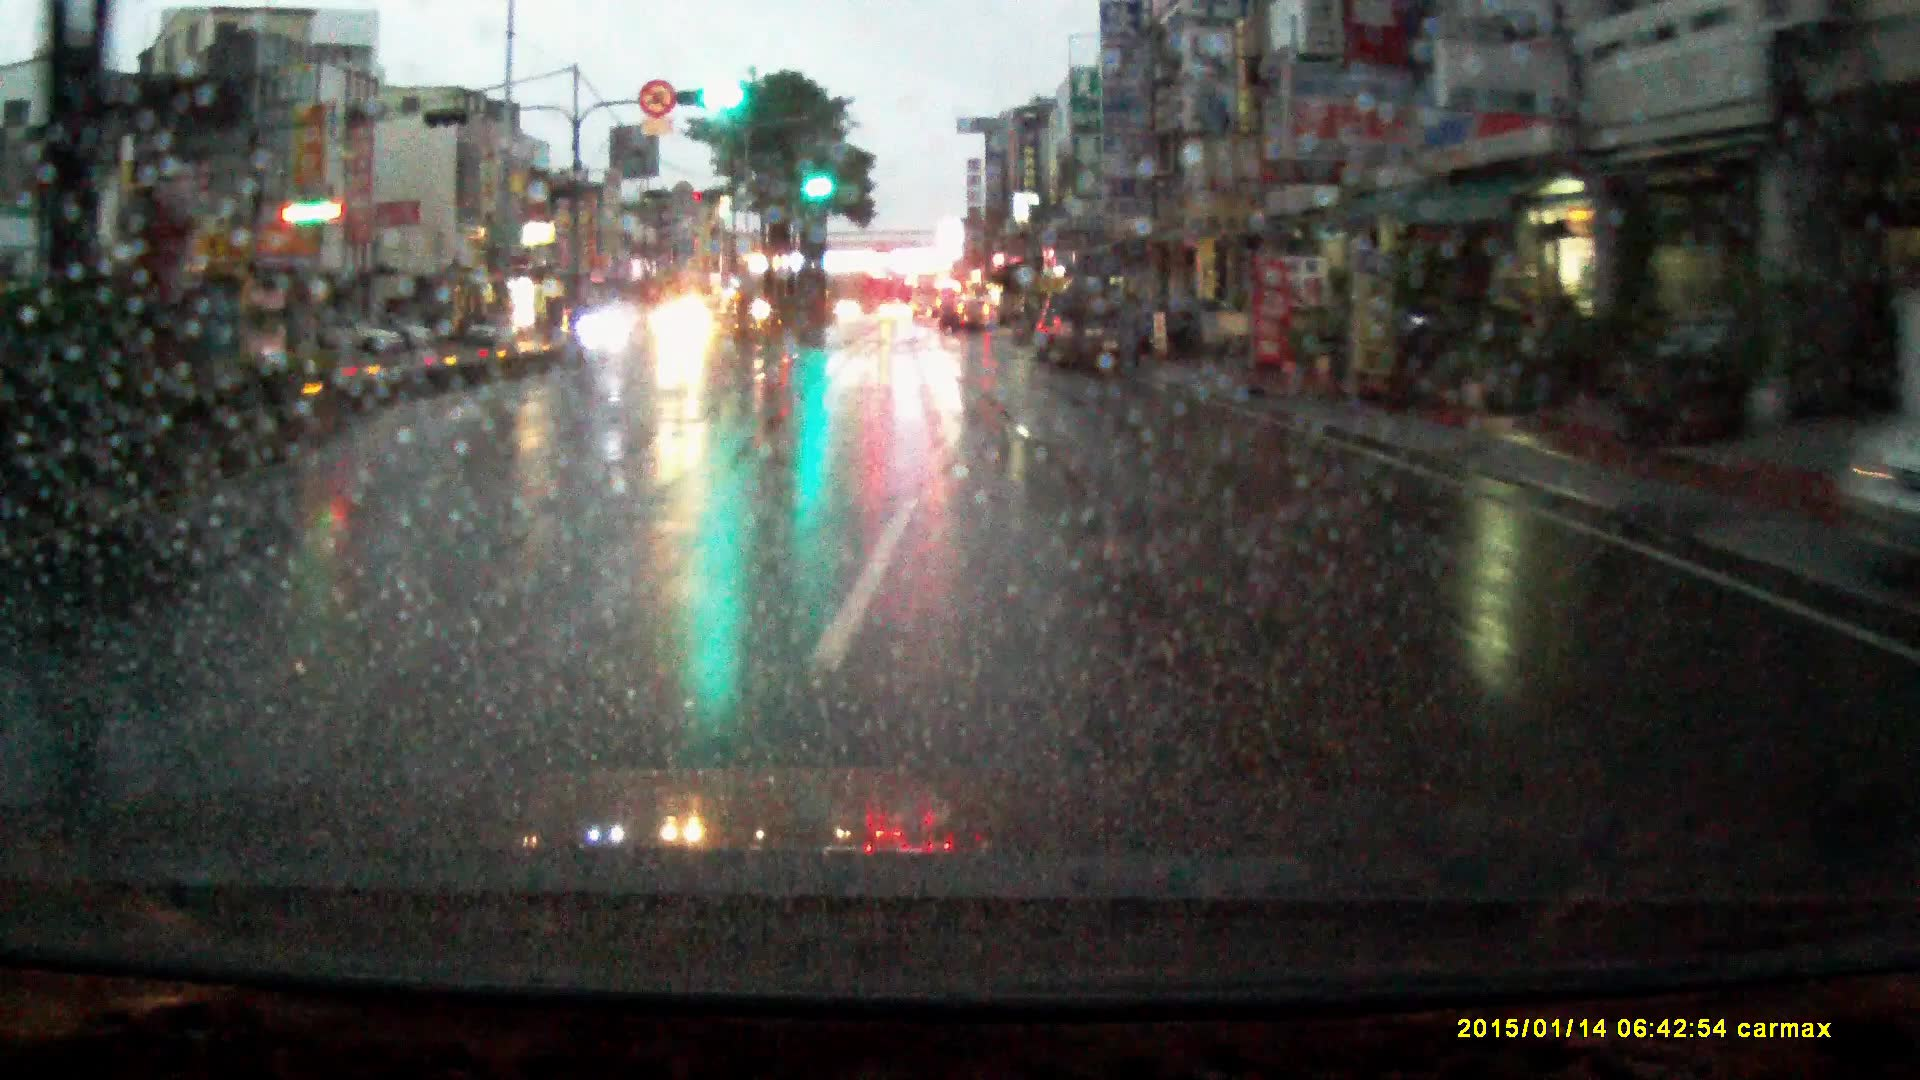vehicle: (1048, 282, 1147, 377), (651, 299, 723, 349), (320, 316, 401, 357), (578, 303, 640, 355), (1195, 311, 1255, 351), (939, 295, 993, 338), (467, 313, 525, 349), (910, 274, 944, 319), (878, 303, 913, 324)
